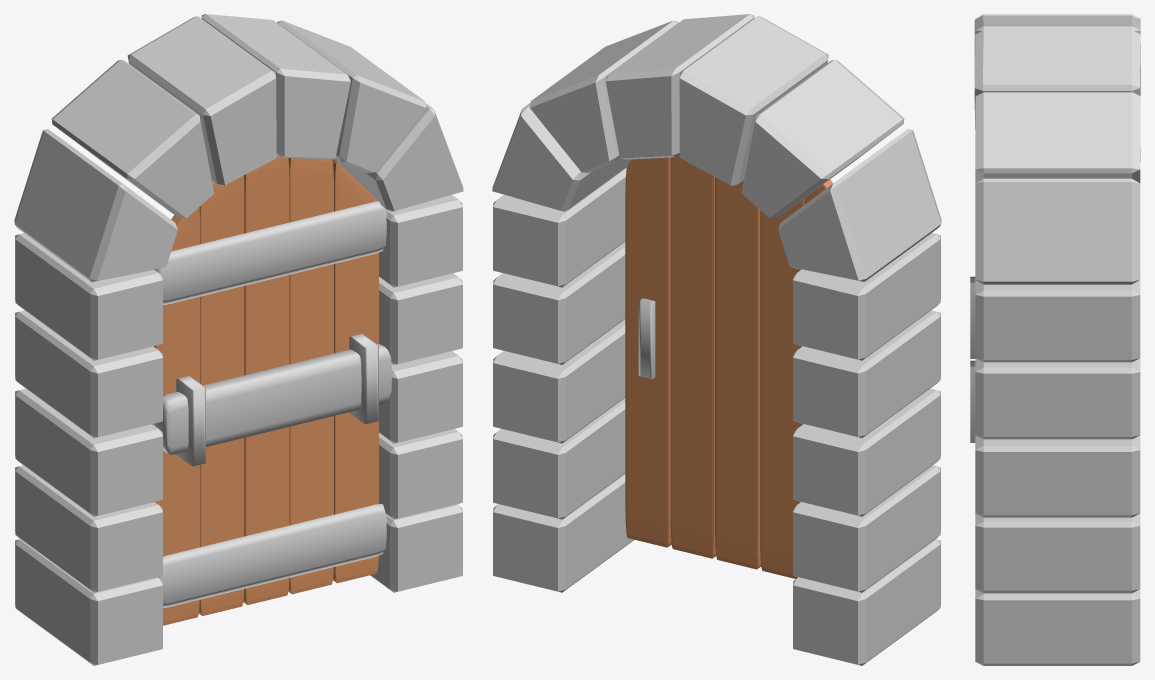
Rendered from AS_Castle_Door.fbx.
3 views of the same model, side by side, from view 1: azimuth 30°, elevation 25°; view 2: azimuth 150°, elevation 25°; view 3: azimuth 270°, elevation 25° (orthographic).
Visible parts, largest first — view 1: Cube, Cube.046, Cube.001, Cube.004, Cube.005, Cube.003, Cube.002; view 2: Cube, Cube.046, Cube.003; view 3: Cube, Cube.002, Cube.003.
Part boxes in pixels (x1,y1,x2,y2): Cube: (14, 14, 463, 665); Cube.046: (152, 155, 378, 625); Cube.001: (153, 343, 391, 454); Cube.004: (158, 504, 387, 607); Cube.005: (155, 201, 387, 304); Cube.003: (349, 333, 378, 424); Cube.002: (176, 376, 205, 466); Cube: (492, 14, 941, 665); Cube.046: (625, 155, 832, 578); Cube.003: (638, 298, 655, 379); Cube: (974, 14, 1140, 665); Cube.002: (970, 276, 975, 358); Cube.003: (970, 360, 975, 442).
Size of the model in its own units: 880 by 1241 by 349.
